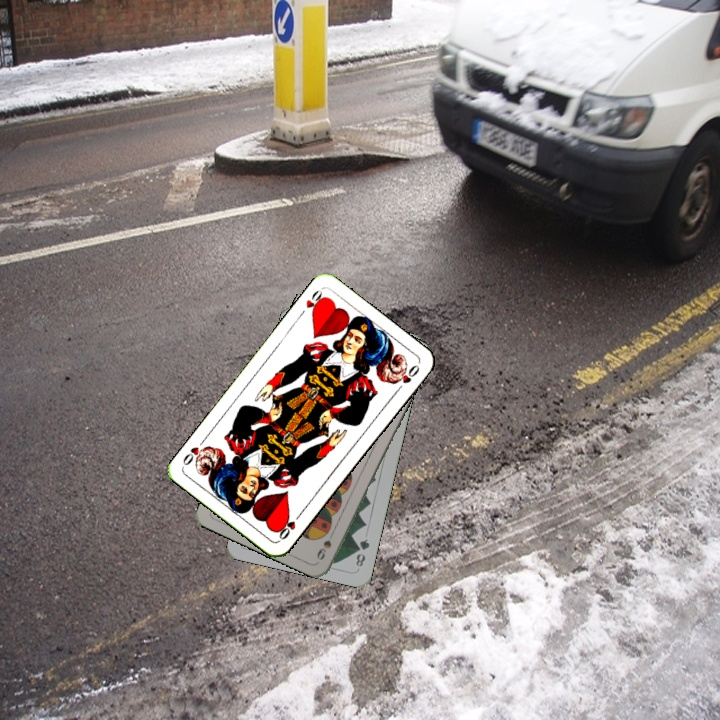G8: (352, 535, 372, 570)
HO: (295, 286, 328, 320), (274, 509, 304, 542)
S9: (313, 525, 338, 563)
